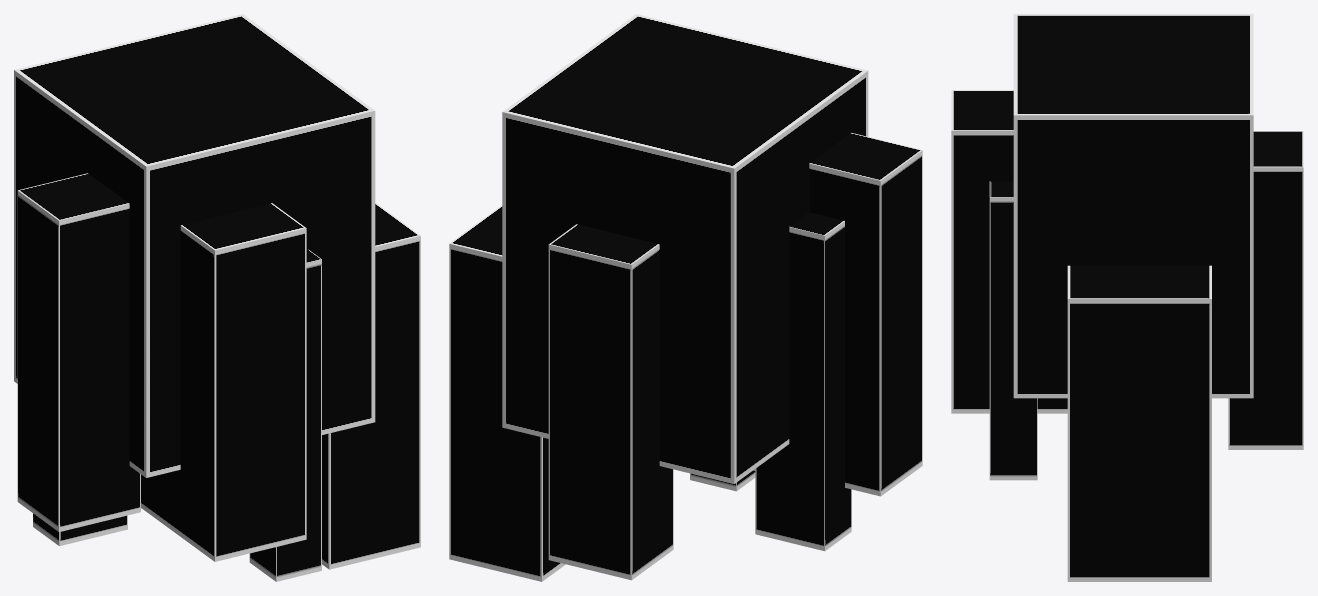
Rendered from Neon Shard 1.fbx.
3 renders of one model, left to right at view 1: azimuth 30°, elevation 25°; view 2: azimuth 150°, elevation 25°; view 3: azimuth 270°, elevation 25°, orthographic. The views are drawn at different scales.
Visible parts, largest first — view 1: Color_Lerping_Tower, Color_Lerping_Tower (2), Color_Lerping_Tower (5), Color_Lerping_Tower (1), Color_Lerping_Tower (3), Color_Lerping_Tower (6); view 2: Color_Lerping_Tower, Color_Lerping_Tower (4), Color_Lerping_Tower (5), Color_Lerping_Tower (1), Color_Lerping_Tower (6); view 3: Color_Lerping_Tower, Color_Lerping_Tower (1), Color_Lerping_Tower (4), Color_Lerping_Tower (2), Color_Lerping_Tower (3).
Part boxes in pixels (x1,y1,x2,y2): Color_Lerping_Tower: [14, 14, 375, 477]; Color_Lerping_Tower (2): [141, 203, 306, 561]; Color_Lerping_Tower (5): [17, 173, 140, 531]; Color_Lerping_Tower (1): [322, 202, 420, 569]; Color_Lerping_Tower (3): [249, 249, 321, 581]; Color_Lerping_Tower (6): [33, 513, 127, 546]; Color_Lerping_Tower: [502, 14, 868, 483]; Color_Lerping_Tower (4): [548, 224, 673, 580]; Color_Lerping_Tower (5): [809, 133, 922, 496]; Color_Lerping_Tower (1): [449, 205, 565, 581]; Color_Lerping_Tower (6): [755, 212, 851, 551]; Color_Lerping_Tower: [1013, 14, 1253, 398]; Color_Lerping_Tower (1): [1067, 265, 1211, 581]; Color_Lerping_Tower (4): [1228, 131, 1303, 449]; Color_Lerping_Tower (2): [951, 90, 1067, 413]; Color_Lerping_Tower (3): [989, 181, 1037, 480].
Bounding box in the file's own units: 164 × 199 × 147.
Materials: 1 (1 with a texture image).
